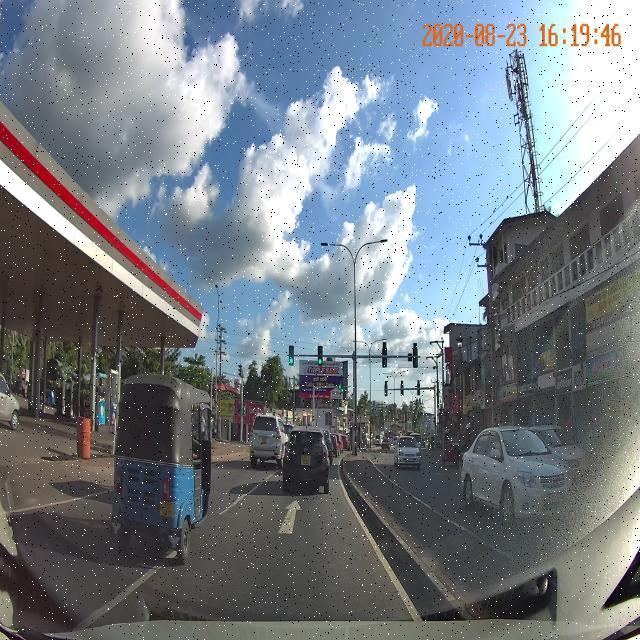forward: (187, 494, 392, 559)
